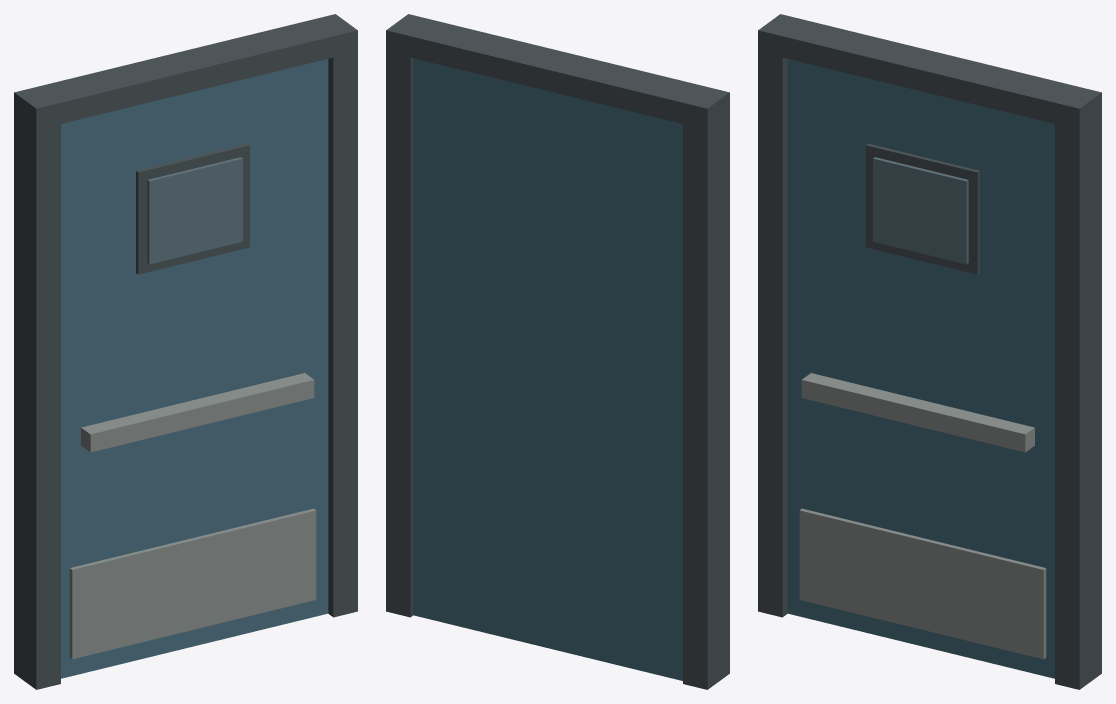
The model's file is back_door.glb.
The picture shows the model from 3 angles, left to right: view 1: azimuth 30°, elevation 25°; view 2: azimuth 150°, elevation 25°; view 3: azimuth 330°, elevation 25°; orthographic projection.
Visible parts, largest first — view 1: back_door_Blue, back_door_Steel, back_door_SteelEdge, back_door_WindowGlass; view 2: back_door_Blue, back_door_Steel; view 3: back_door_Blue, back_door_Steel, back_door_SteelEdge, back_door_WindowGlass.
Part boxes in pixels (left/top/right/bottom): back_door_Blue: left=61, top=59, right=328, bottom=678; back_door_Steel: left=14, top=14, right=357, bottom=689; back_door_SteelEdge: left=69, top=373, right=316, bottom=659; back_door_WindowGlass: left=147, top=157, right=242, bottom=264; back_door_Blue: left=413, top=58, right=682, bottom=680; back_door_Steel: left=386, top=14, right=729, bottom=689; back_door_Blue: left=787, top=59, right=1054, bottom=678; back_door_Steel: left=758, top=14, right=1101, bottom=689; back_door_SteelEdge: left=799, top=373, right=1046, bottom=659; back_door_WindowGlass: left=873, top=157, right=968, bottom=264.
Size of the model in its own units: 1.58 by 2.73 by 0.235.
